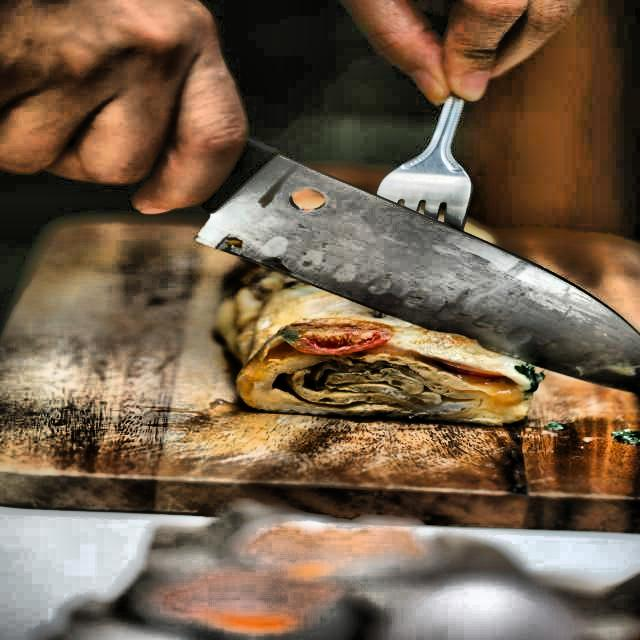knife: (89, 118, 640, 402)
